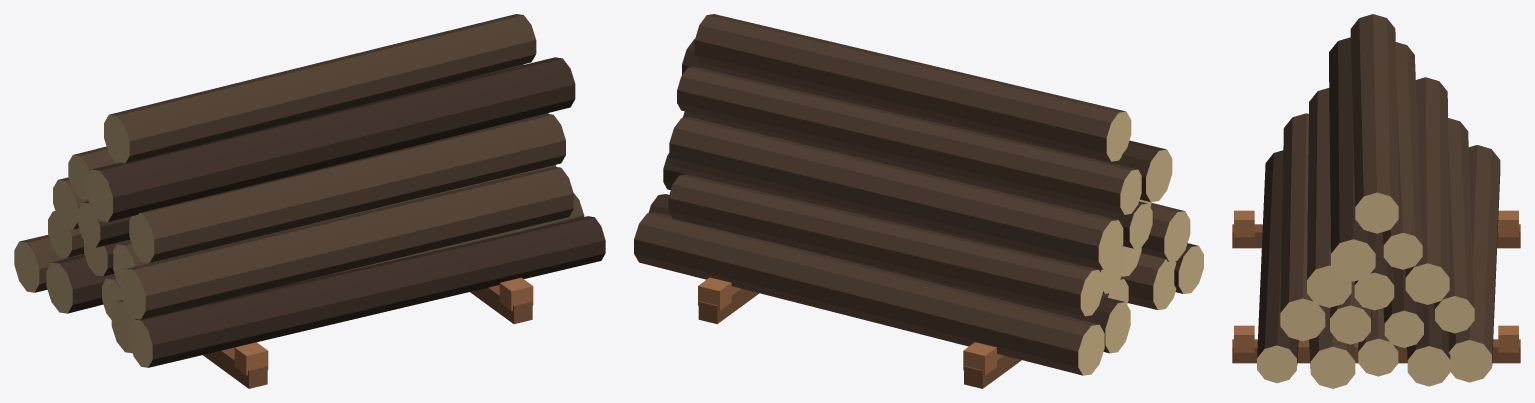
File: log_pile_raw.glb
3 views of the same model, side by side, from view 1: azimuth 30°, elevation 25°; view 2: azimuth 150°, elevation 25°; view 3: azimuth 270°, elevation 25° (orthographic). The views are drawn at different scales.
Parts seen in each view (by area): view 1: log_pile_raw; view 2: log_pile_raw; view 3: log_pile_raw.
Part boxes in pixels (x1,y1,x2,y2): log_pile_raw: (14, 14, 605, 388); log_pile_raw: (634, 14, 1203, 388); log_pile_raw: (1232, 14, 1520, 388).
Size of the model in its own units: 5.99 by 2.8 by 3.6.
